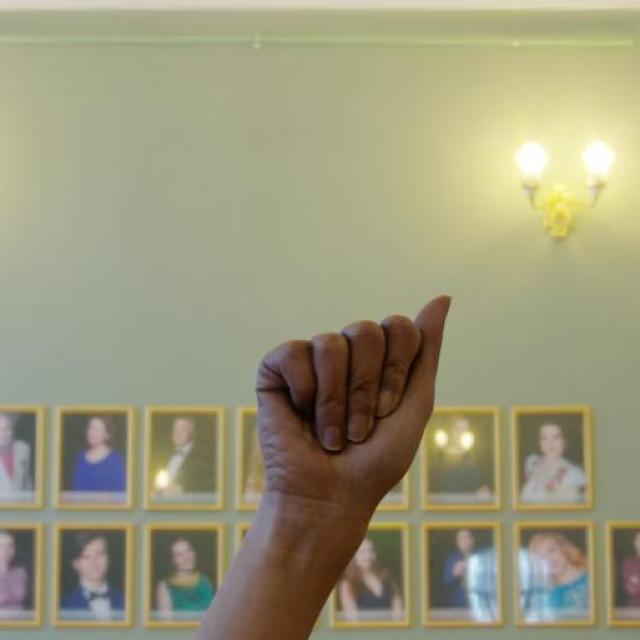A: (254, 284, 453, 504)
